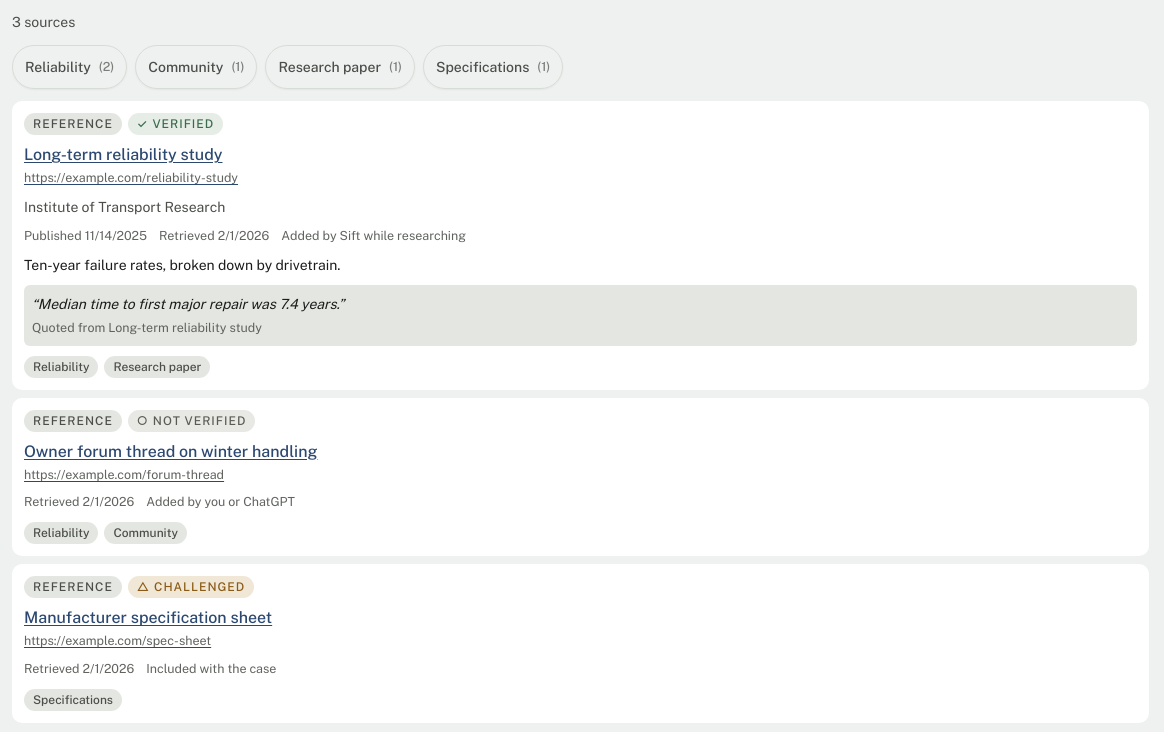
Test: ReferenceLibrary: tag facets and filtering › restores the whole library when the selected tag is pressed again
Click the button with test id "reference-library-tag-Specifications" at coordinates (493, 67), box [423,45,563,89]
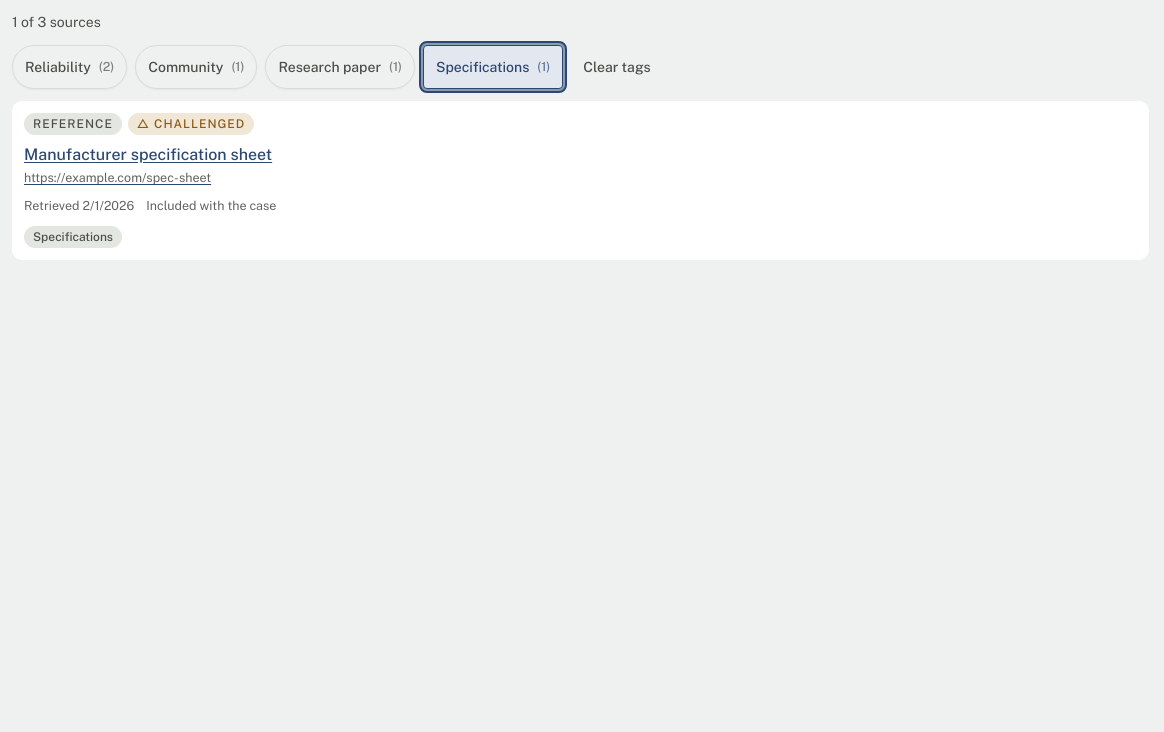
Result: the list item with test id "reference-library-entry-src-1" is gone
Click the button with test id "reference-library-tag-Specifications" at coordinates (493, 67), box [423,45,563,89]
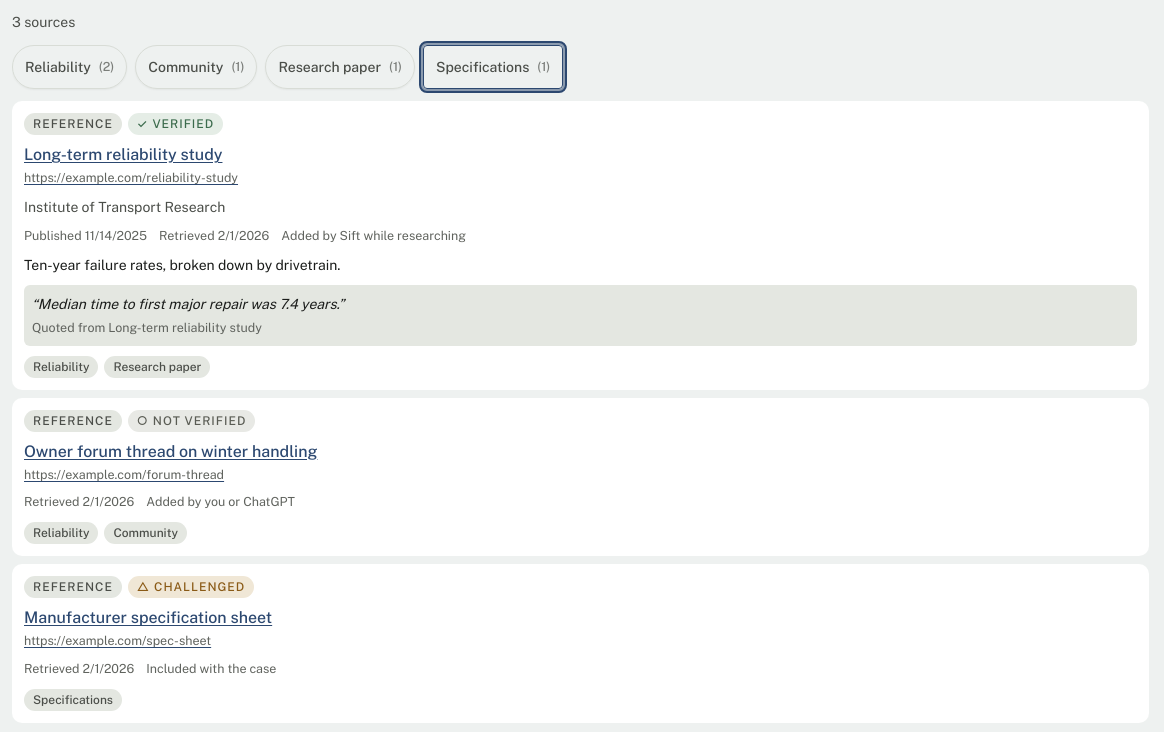
Result: the list item with test id "reference-library-entry-src-1" is shown at [12,101,1149,390]
Result: the text with test id "reference-library-count" reads "3 sources" at [12,14,75,30]
